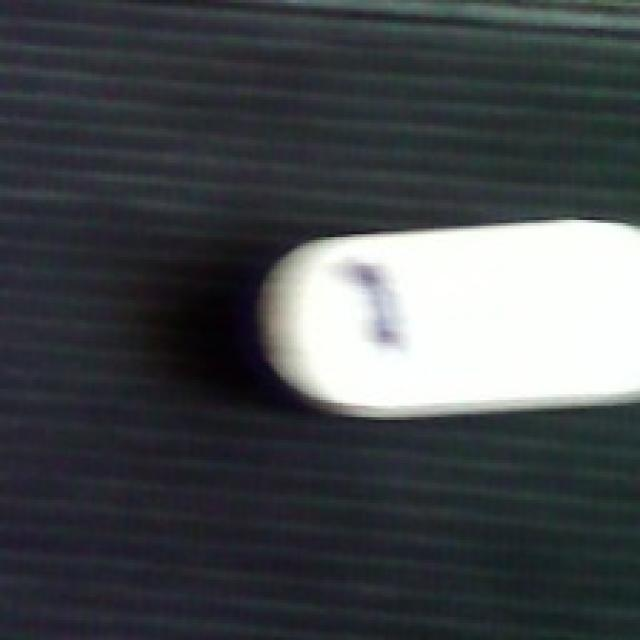defected: (249, 217, 637, 423)
